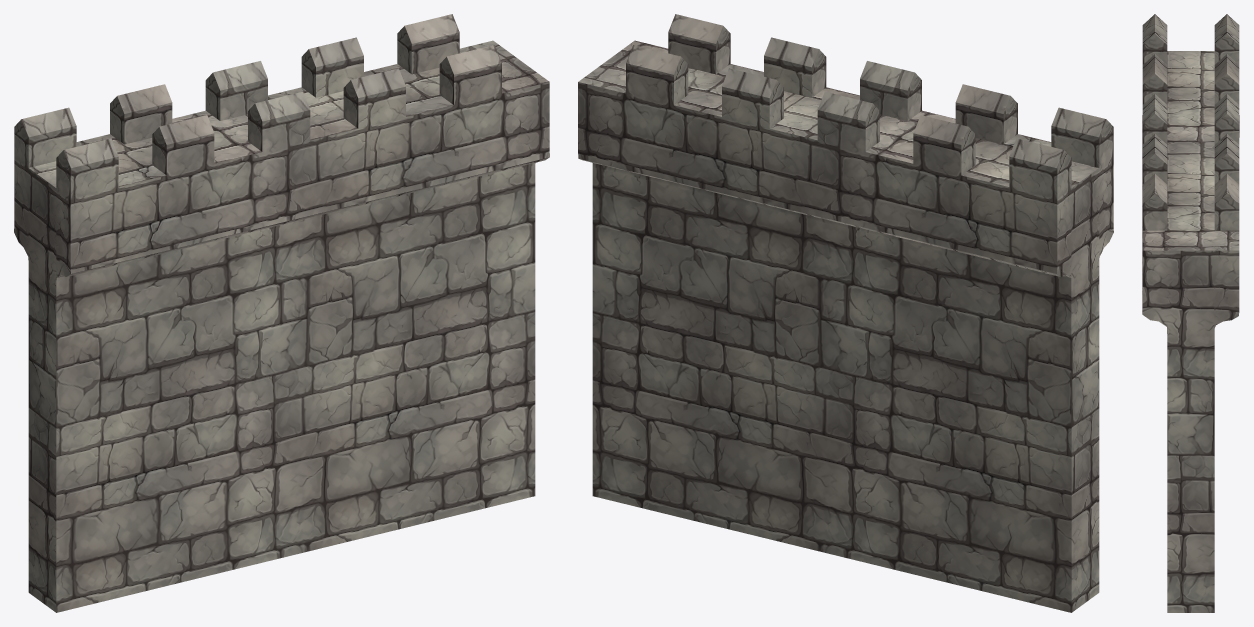
The model's file is Muraille.fbx.
The picture shows the model from 3 angles, left to right: view 1: azimuth 30°, elevation 25°; view 2: azimuth 150°, elevation 25°; view 3: azimuth 270°, elevation 25°; orthographic projection. The views are drawn at different scales.
Parts seen in each view (by area): view 1: Cube.001; view 2: Cube.001; view 3: Cube.001.
Boxes of the visible parts, box(x1,y1,x2,y2) form: Cube.001: box(14, 14, 549, 612); Cube.001: box(578, 14, 1113, 612); Cube.001: box(1142, 14, 1239, 612).
Size of the model in its own units: 1991 by 1859 by 409.
